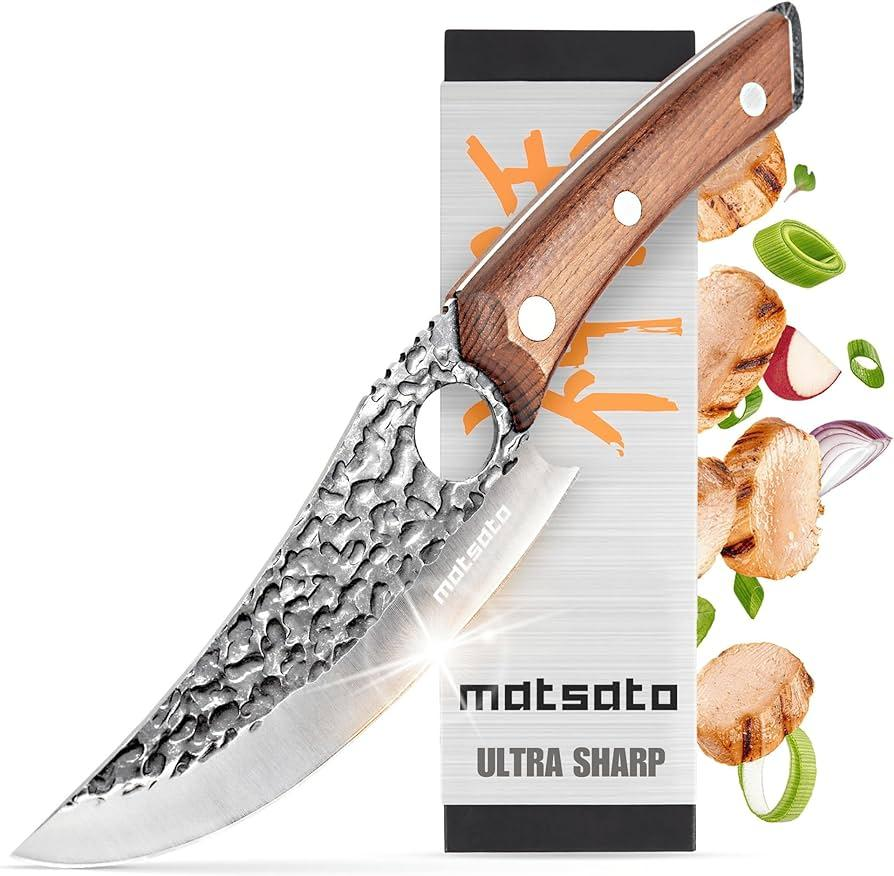Knife: (14, 0, 807, 862)
